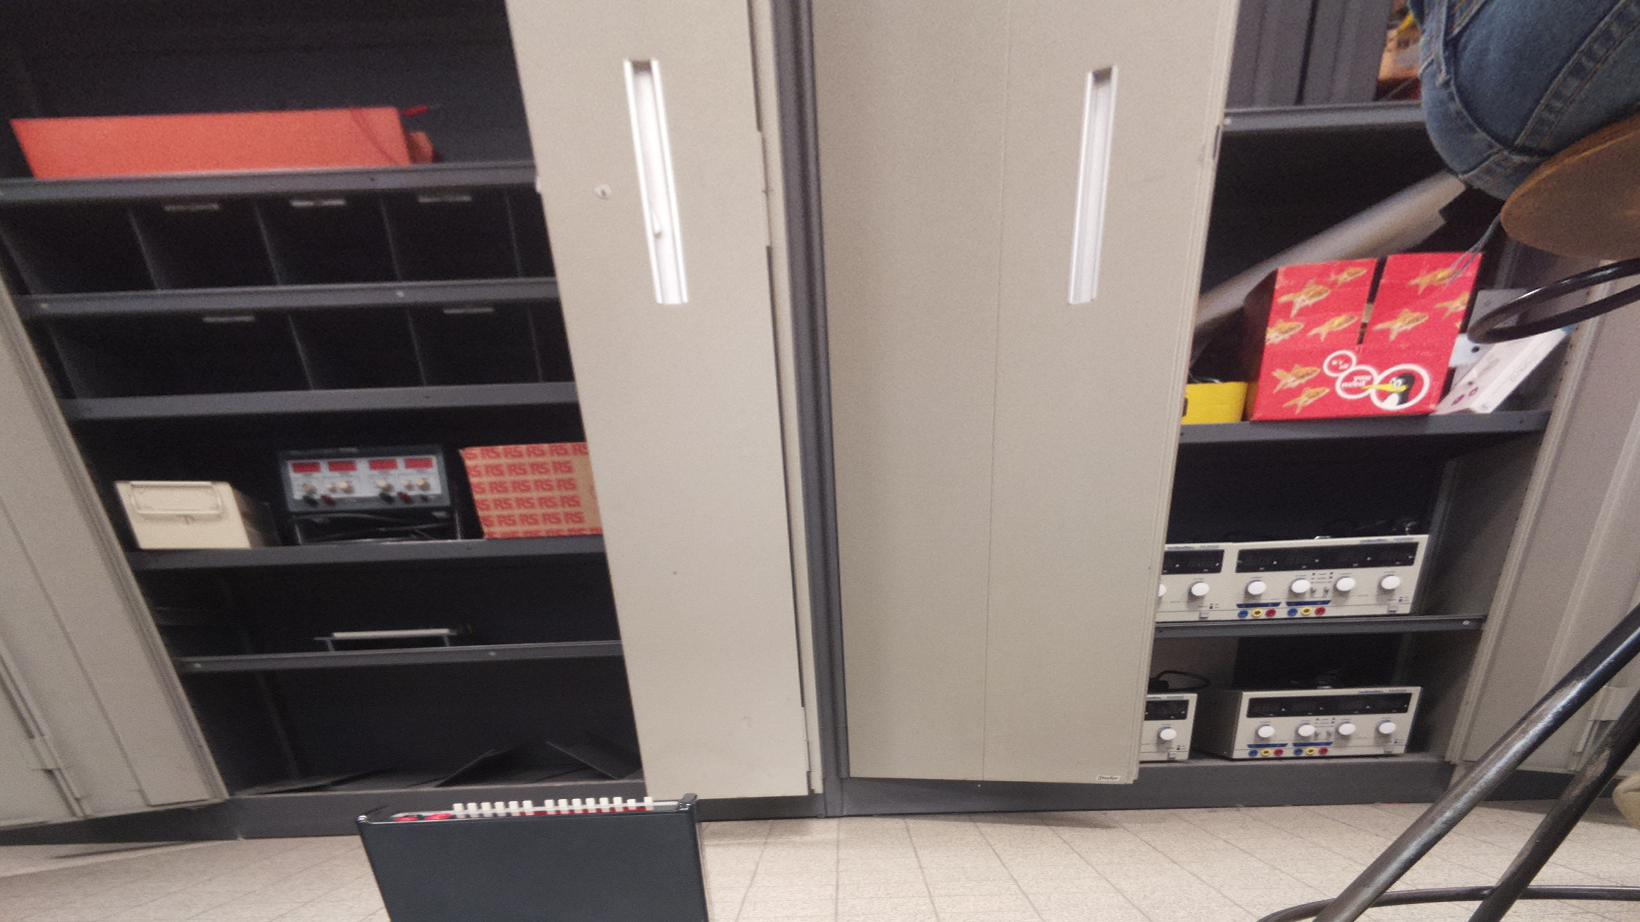medium: (356, 790, 716, 922)
